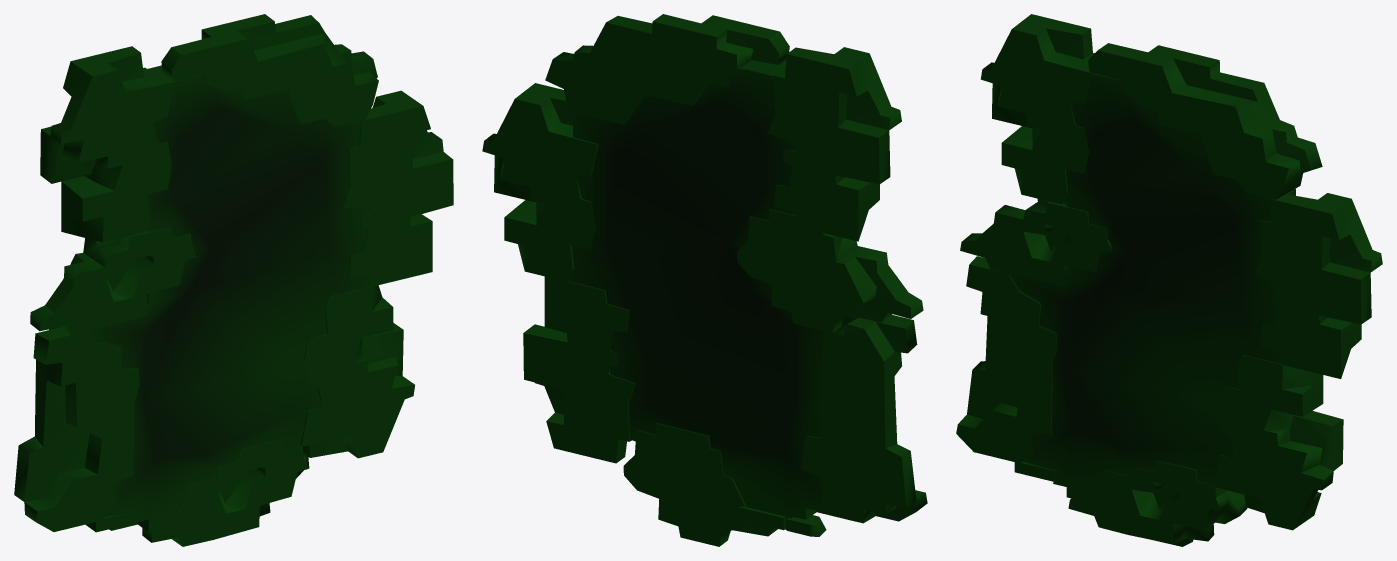
Rendered from DBK_Brick_Prop_Big_A.fbx.
The picture shows the model from 3 angles, left to right: view 1: azimuth 30°, elevation 25°; view 2: azimuth 150°, elevation 25°; view 3: azimuth 330°, elevation 25°; orthographic projection. The views are drawn at different scales.
Parts seen in each view (by area): view 1: DBK_Brick_Prop_Big_A; view 2: DBK_Brick_Prop_Big_A; view 3: DBK_Brick_Prop_Big_A.
Part boxes in pixels (x1,y1,x2,y2): DBK_Brick_Prop_Big_A: [14, 14, 453, 546]; DBK_Brick_Prop_Big_A: [482, 14, 927, 546]; DBK_Brick_Prop_Big_A: [956, 14, 1382, 546].
Size of the model in its own units: 228 by 262 by 21.28.
